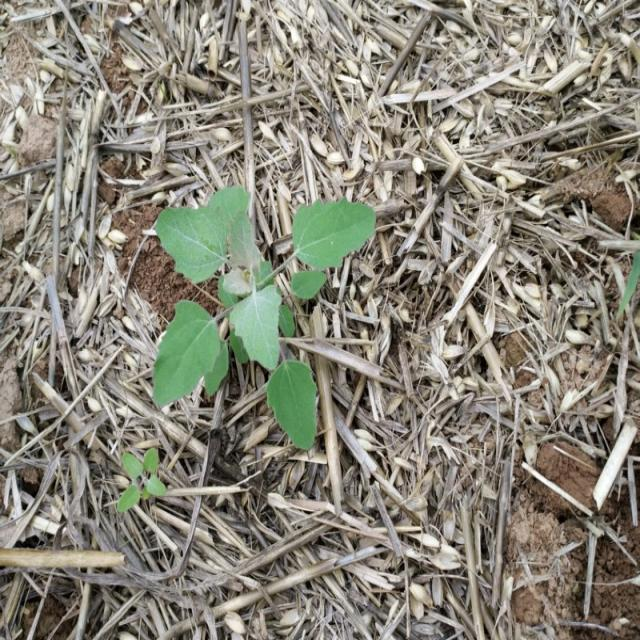ca: (152, 184, 376, 450)
